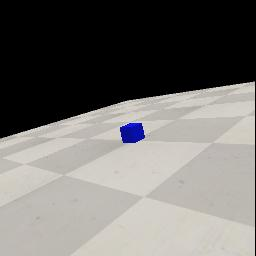box: (120, 123, 145, 143)
